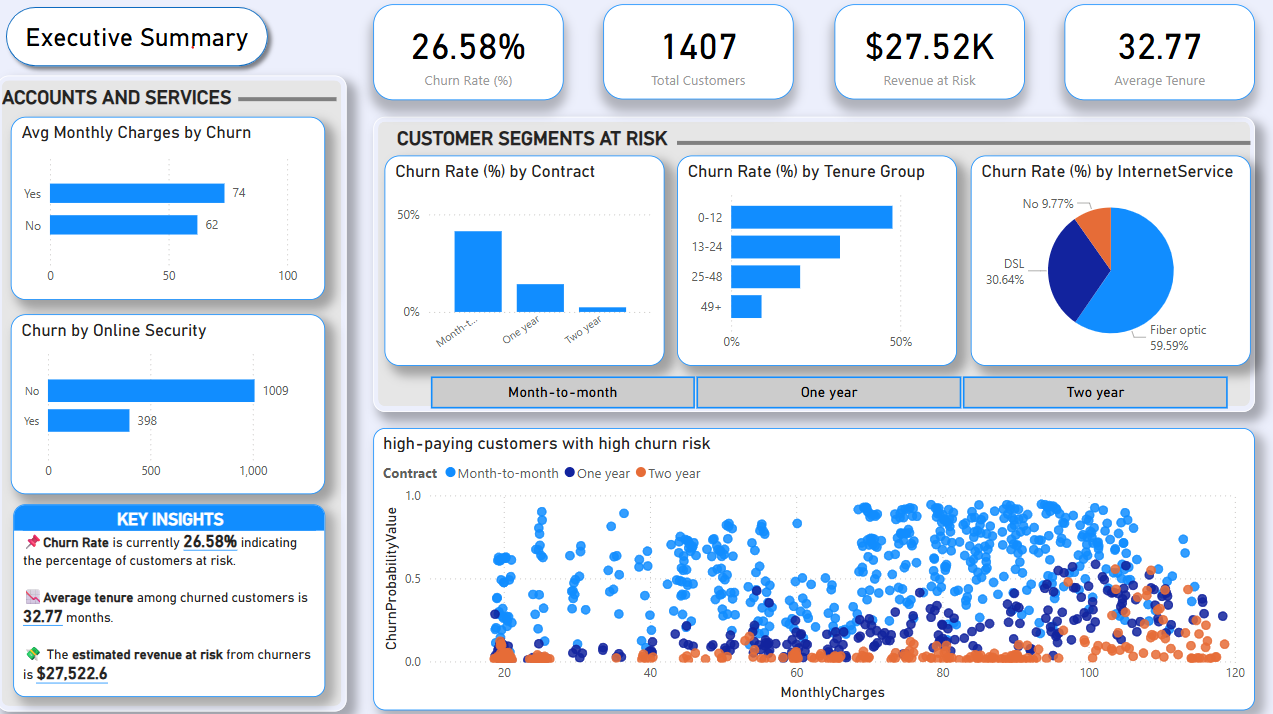

This screenshot's page, from the dashboard's own definition file:
{"tool":"powerbi","page":{"name":"Page 1","canvas":[1280,720],"ordinal":0},"visuals":[{"type":"shape","box":[0,77.1,349.6,635.7],"z":0},{"type":"columnChart","fields":{"Category":["final_predictions.Contract"],"Y":["final_predictions.Churn Rate (%)"]},"box":[388,157,279.9,210.2],"z":0,"group":"g1"},{"type":"shape","box":[375.7,118.2,882,294.8],"z":1000},{"type":"clusteredBarChart","fields":{"Category":["final_predictions.Tenure Group"],"Y":["final_predictions.Churn Rate (%)"]},"box":[681,157,279.9,210.2],"z":1000,"group":"g1"},{"type":"clusteredBarChart","title":"Avg Monthly Charges by Churn","fields":{"Y":["final_predictions.Avg Monthly Charges by Churn"],"Category":["final_predictions.Churn Label"]},"box":[13.7,118.2,314.7,182.9],"z":2000},{"type":"pieChart","fields":{"Category":["final_predictions.InternetService"],"Y":["final_predictions.Churn Rate (%)"]},"box":[973.9,157,279.9,210.2],"z":2000,"group":"g1"},{"type":"card","fields":{"Values":["final_predictions.Churn Rate (%)"]},"box":[375.7,5.6,190.3,95.8],"z":3000},{"type":"card","fields":{"Values":["final_predictions.Total Customers"]},"box":[606.6,5.6,190,95],"z":4000},{"type":"shape","box":[0,0,279.9,77.1],"z":5000},{"type":"card","fields":{"Values":["final_predictions.Revenue at Risk"]},"box":[837.1,5.6,190,95],"z":6000},{"type":"card","fields":{"Values":["final_predictions.Average Tenure"]},"box":[1067.7,5.6,190.3,95.8],"z":7000},{"type":"group","id":"g1","title":"Group 1","box":[388,157,865.8,210.2],"z":8000},{"type":"textbox","box":[0,83.7,261.1,34.6],"z":9000},{"type":"shape","box":[680.4,126.9,573.5,34.8],"z":10000},{"type":"slicer","fields":{"Values":["final_predictions.Contract"]},"box":[408,370.7,847.1,46],"z":11000},{"type":"clusteredBarChart","title":"Churn by Online Security","fields":{"Category":["final_predictions.OnlineSecurity"],"Y":["CountNonNull(final_predictions.Churn Label)"]},"box":[13.7,316,314.7,180.4],"z":12000},{"type":"textbox","box":[395.6,124.4,296.1,34.8],"z":13000},{"type":"shape","box":[241.3,83.3,98.3,34.8],"z":14000},{"type":"textbox","title":"KEY INSIGHTS","box":[16.2,506.3,312.2,192.8],"z":14001},{"type":"scatterChart","title":" high-paying customers with high churn risk","fields":{"X":["final_predictions.MonthlyCharges"],"Y":["final_predictions.ChurnProbabilityValue"],"Series":["final_predictions.Contract"]},"box":[375.7,430.4,882,282.4],"z":14002}]}

Visuals, with their boxes in screenshot pixels (x1, y1, x2, y2), scaled from the page's 1280x720 canvas onto the 1273x714 screenshot:
shape: bbox=(0, 76, 348, 707)
columnChart - final_predictions.Contract x final_predictions.Churn Rate (%): bbox=(386, 156, 664, 364)
shape: bbox=(374, 117, 1251, 410)
clusteredBarChart - final_predictions.Tenure Group x final_predictions.Churn Rate (%): bbox=(677, 156, 956, 364)
"Avg Monthly Charges by Churn" clusteredBarChart: bbox=(14, 117, 327, 299)
pieChart - final_predictions.InternetService x final_predictions.Churn Rate (%): bbox=(969, 156, 1247, 364)
card - final_predictions.Churn Rate (%): bbox=(374, 6, 563, 101)
card - final_predictions.Total Customers: bbox=(603, 6, 792, 100)
shape: bbox=(0, 0, 278, 76)
card - final_predictions.Revenue at Risk: bbox=(833, 6, 1021, 100)
card - final_predictions.Average Tenure: bbox=(1062, 6, 1251, 101)
"Group 1" group: bbox=(386, 156, 1247, 364)
textbox: bbox=(0, 83, 260, 117)
shape: bbox=(677, 126, 1247, 160)
slicer - final_predictions.Contract: bbox=(406, 368, 1248, 413)
"Churn by Online Security" clusteredBarChart: bbox=(14, 313, 327, 492)
textbox: bbox=(393, 123, 688, 158)
shape: bbox=(240, 83, 338, 117)
"KEY INSIGHTS" textbox: bbox=(16, 502, 327, 693)
" high-paying customers with high churn risk" scatterChart: bbox=(374, 427, 1251, 707)
